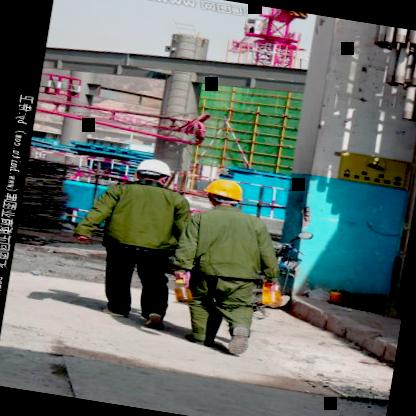helmet: (198, 172, 248, 216), (130, 156, 176, 190)
